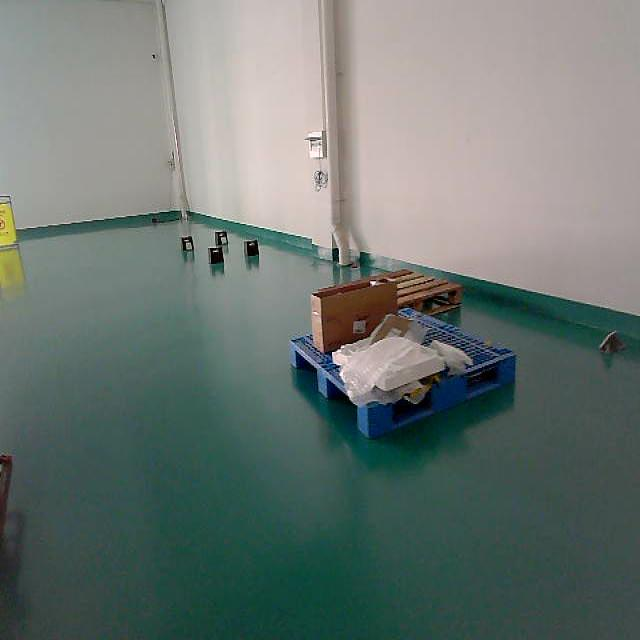euro: (379, 273, 465, 315)
